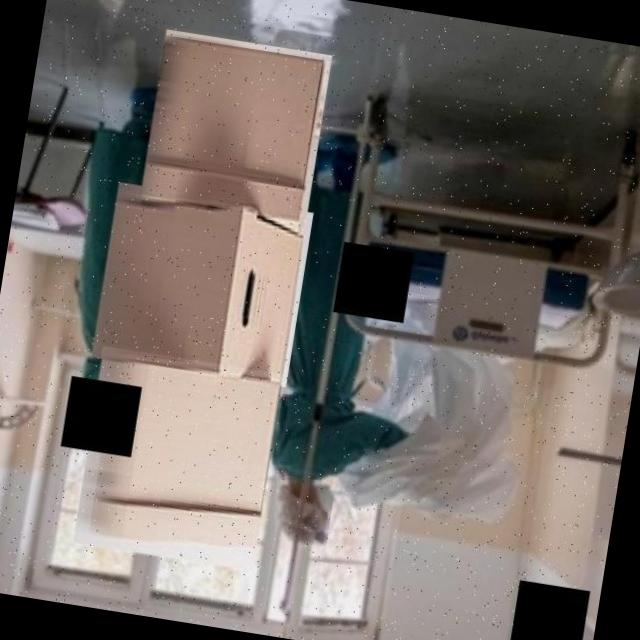box: (71, 346, 286, 574), (89, 178, 318, 392), (138, 26, 336, 226)
